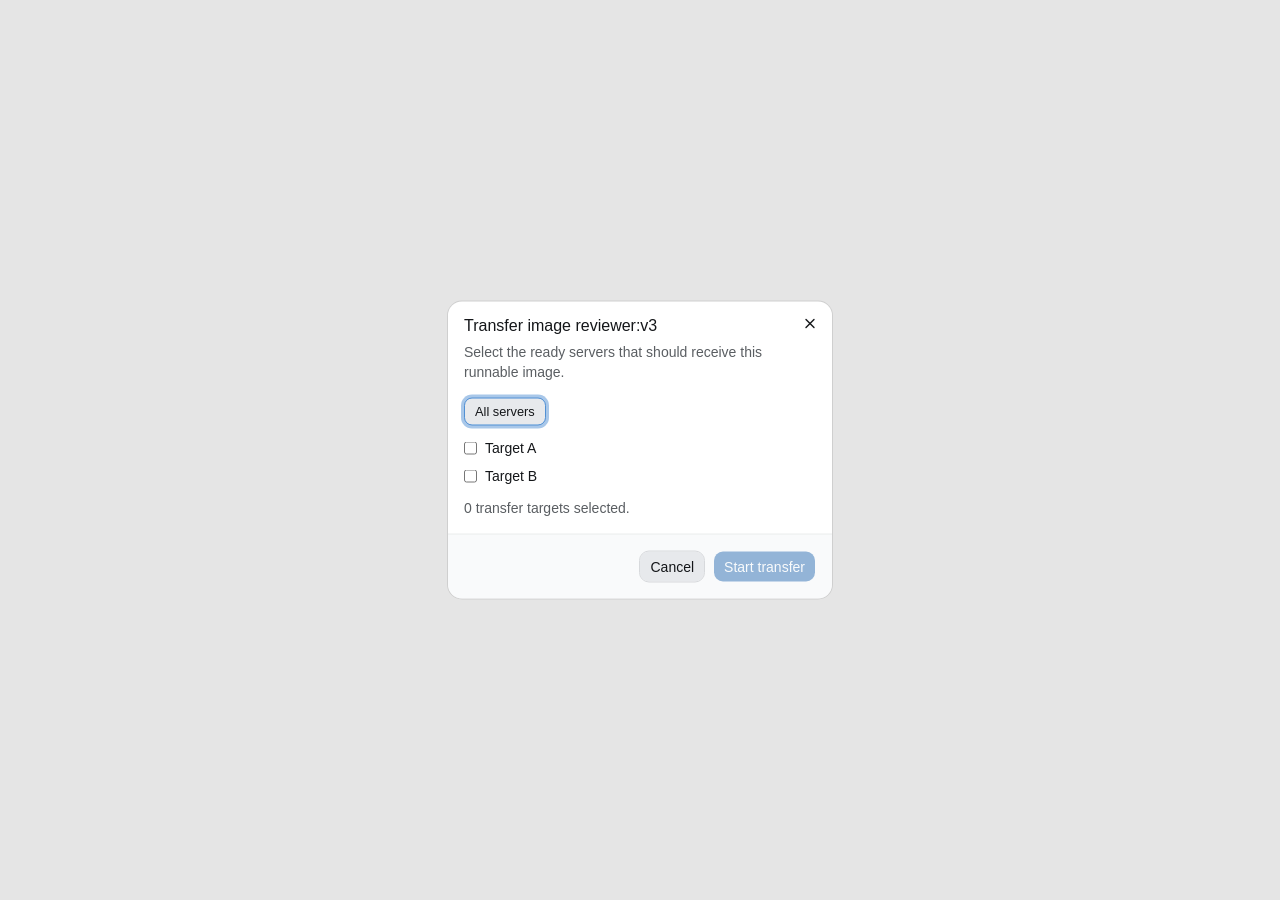
Test: exports once, continues after a failed target, and reports an idempotent target
The image size is (1280, 900).
Click the button "All servers" at (505, 412), box [464,398,546,426]
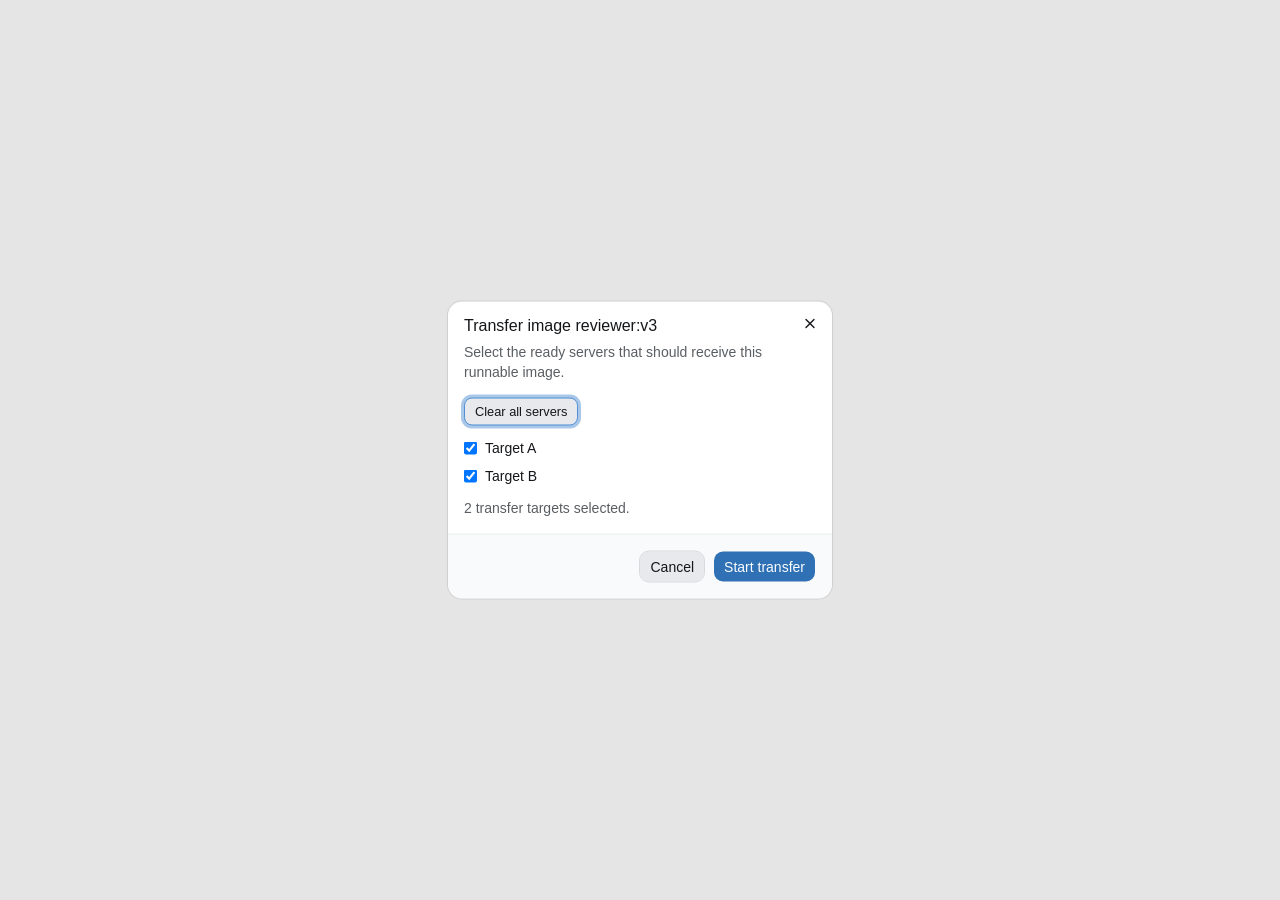
Click the button "Start transfer" at (765, 566), box [713,550,816,582]
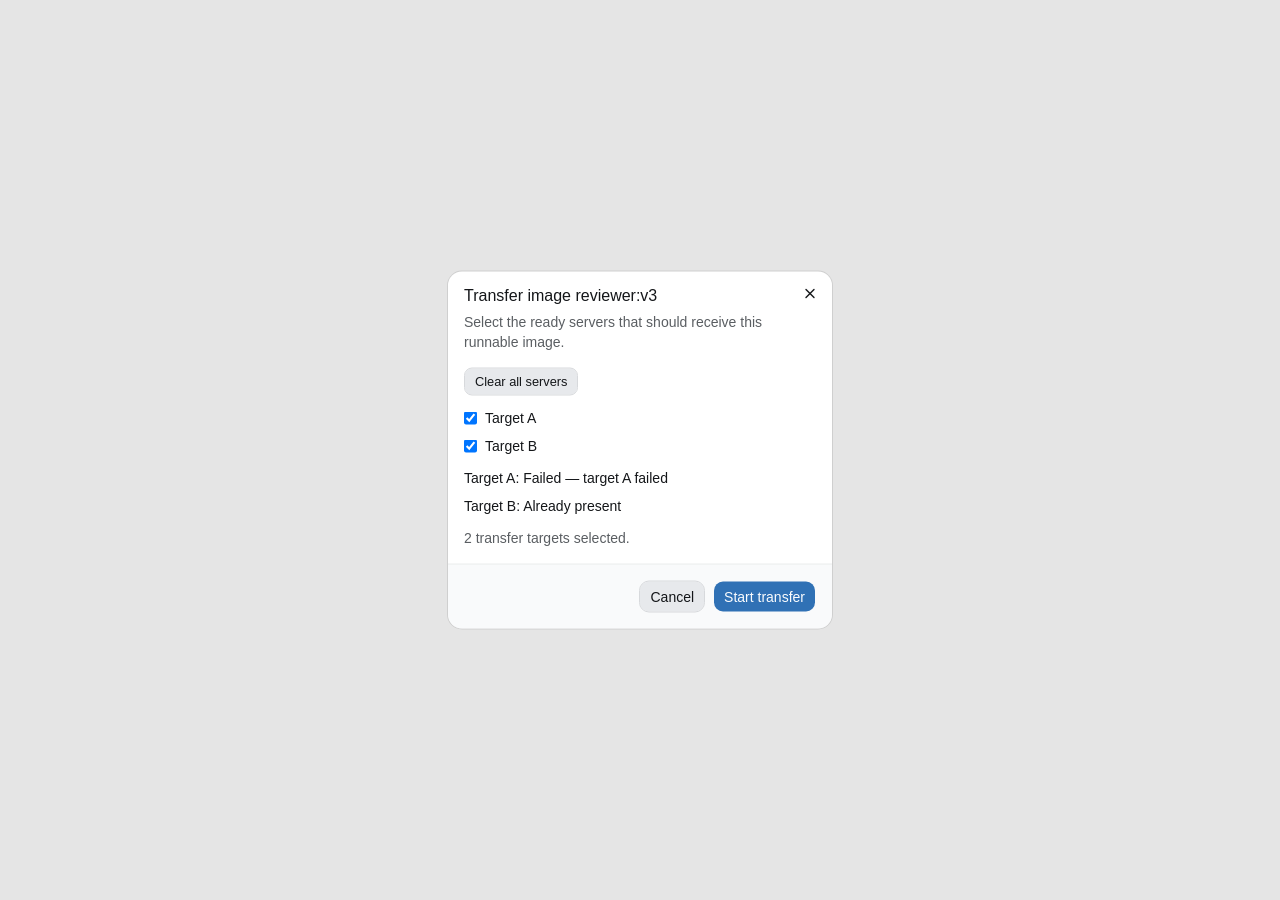
Check: the text "Target A: Failed — target A failed" is shown, box [464,470,668,486]
Check: the text "Target B: Already present" is shown, box [464,498,621,514]
